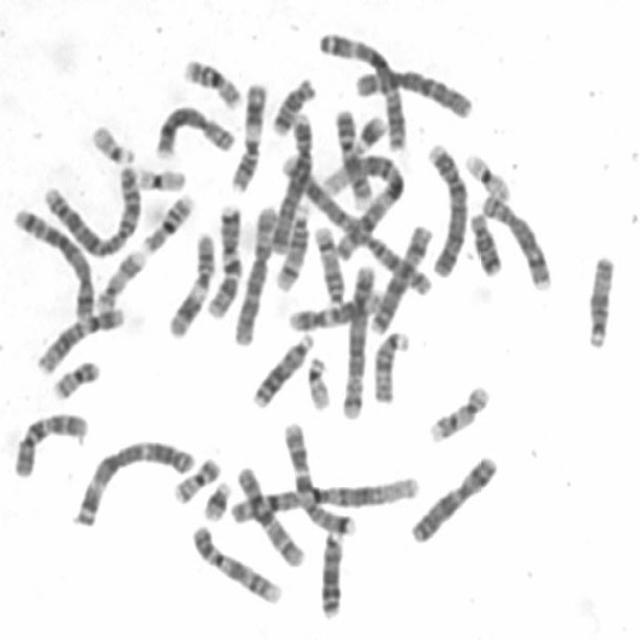A1: (225, 472, 421, 524), (321, 151, 406, 262)
A2: (279, 150, 437, 298), (39, 161, 142, 260)
A3: (70, 435, 198, 528), (317, 27, 409, 153)
B4: (266, 111, 314, 255), (424, 140, 469, 278)
B5: (10, 202, 96, 320), (337, 259, 378, 421)
C10: (234, 462, 306, 570), (8, 408, 89, 480)
C11: (164, 228, 217, 340), (227, 78, 268, 193)
C12: (34, 304, 126, 375), (285, 287, 383, 334)
C6: (230, 202, 278, 347), (350, 64, 474, 120)
C7: (280, 418, 358, 538), (202, 204, 245, 318)
C8: (478, 190, 554, 292), (150, 102, 237, 160)
C9: (188, 521, 284, 606), (332, 106, 374, 205)
D13: (249, 330, 315, 410), (316, 527, 344, 621)
D14: (272, 199, 310, 294), (311, 222, 345, 306)
D15: (369, 326, 410, 406), (583, 250, 615, 351)
E16: (138, 190, 196, 253), (180, 54, 242, 110)
E17: (426, 382, 492, 444), (94, 247, 148, 312)
E18: (268, 74, 316, 137), (466, 209, 503, 277)
F19: (462, 150, 512, 202), (133, 164, 187, 193)
F20: (170, 453, 222, 505), (49, 356, 102, 401)
G21: (351, 111, 387, 154), (200, 477, 233, 522)
G22: (89, 122, 137, 166), (303, 352, 334, 412)
X: (406, 452, 500, 545), (367, 220, 435, 336)
